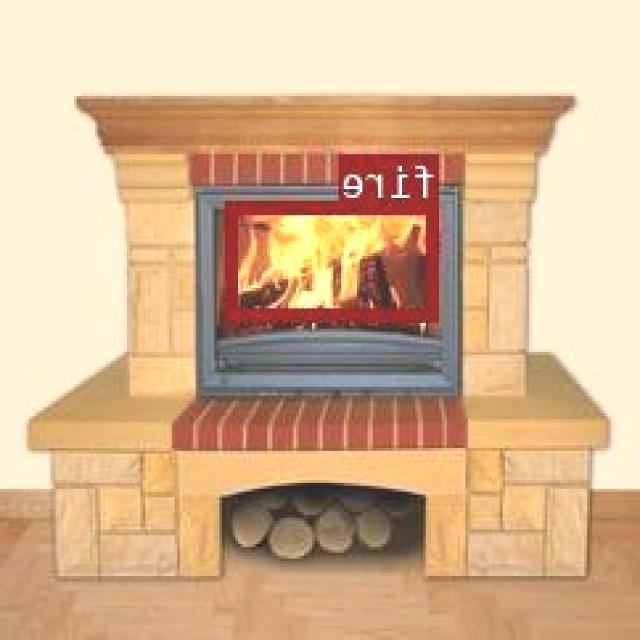fire: (228, 199, 442, 318)
